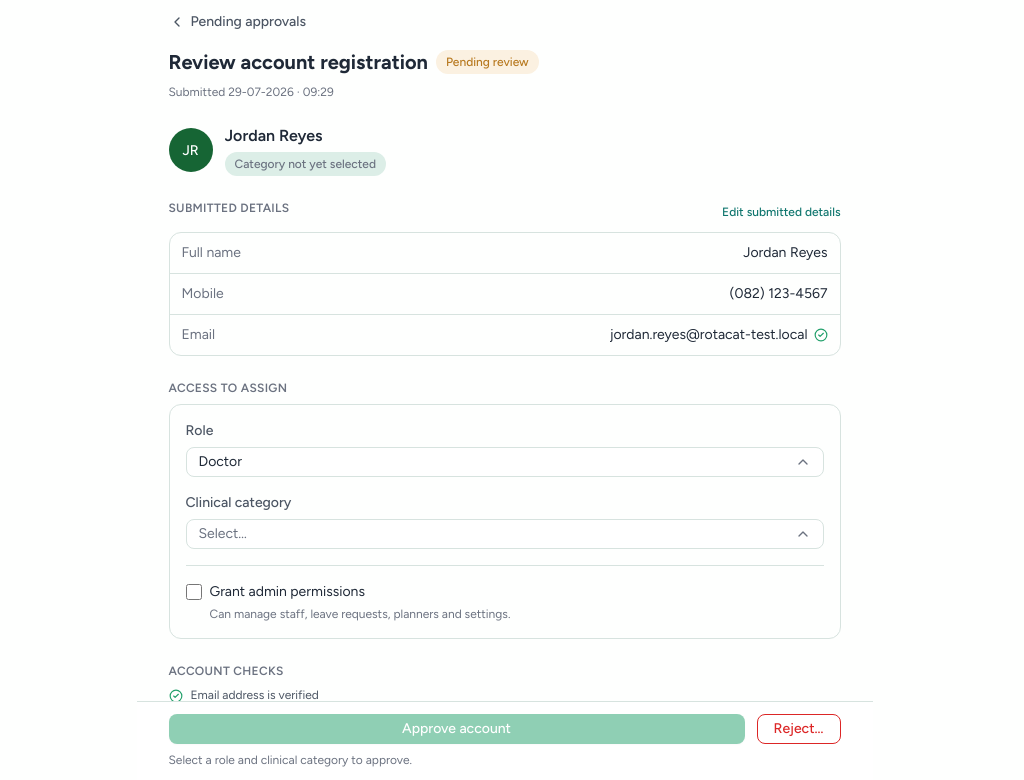
Test: PendingApprovalReviewPage › "Edit submitted details" reveals separate first-name/surname/mobile inputs
Click the button "Edit submitted details". click: (781, 212)
box: top-left (722, 204), bottom-right (840, 220)
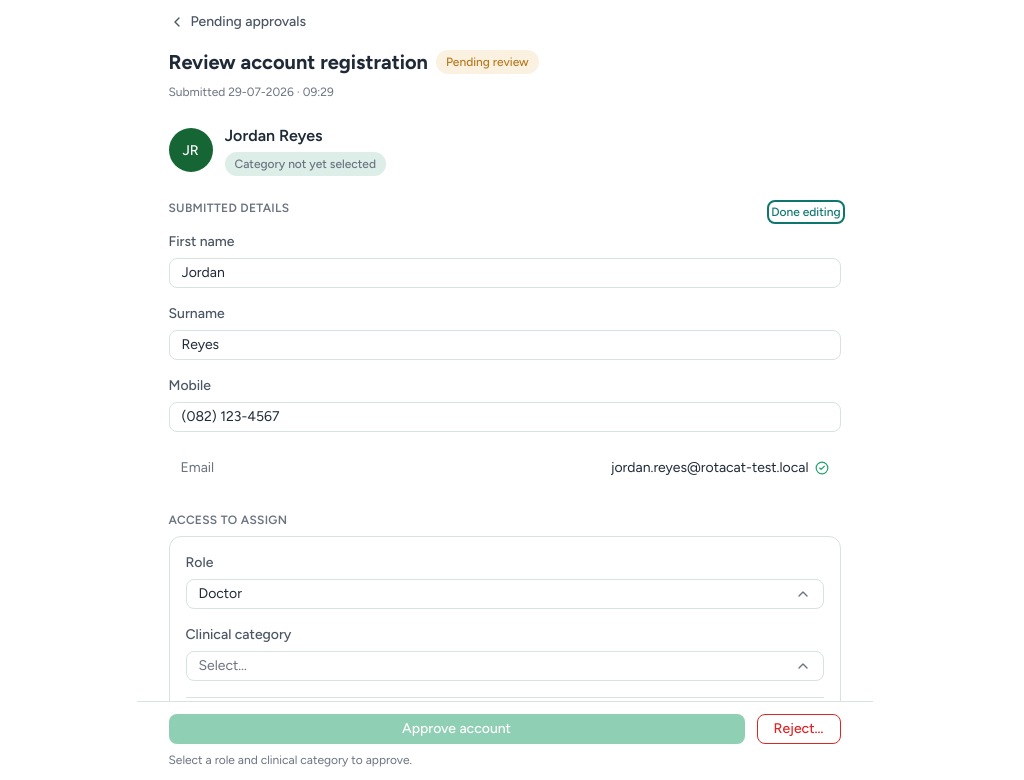
Expected: the text "jordan.reyes@rotacat-test.local" is shown, top-left (611, 458), bottom-right (808, 478)
Result: the field labelled "First name" holds "Jordan" at top-left (168, 258), bottom-right (840, 288)
Result: the field labelled "Surname" holds "Reyes" at top-left (168, 330), bottom-right (840, 360)
